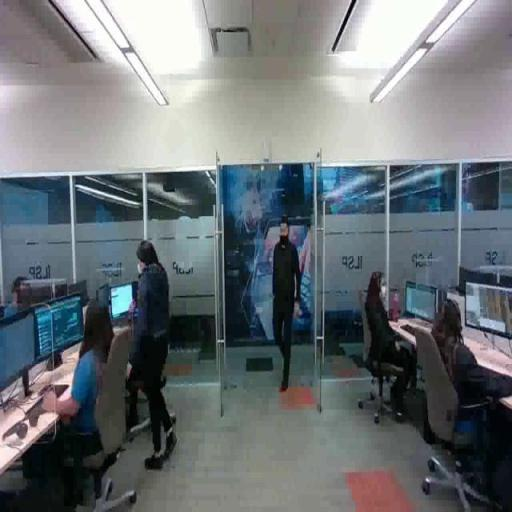person: (128, 240, 181, 473), (270, 219, 305, 396)
